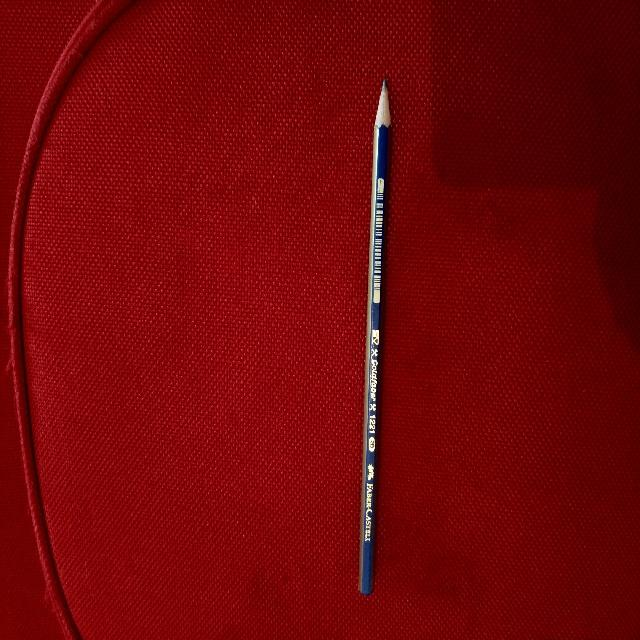pencil: (359, 81, 389, 594)
